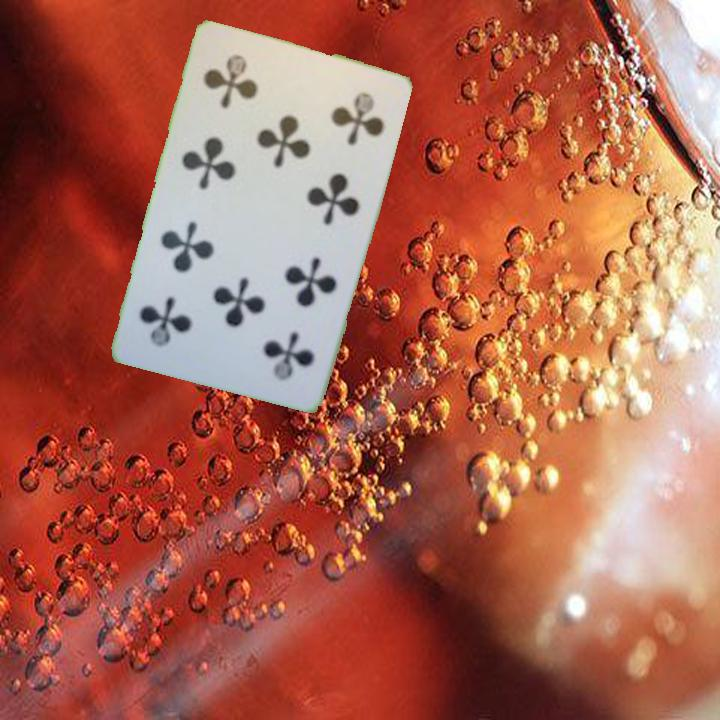c_10.png: (217, 289, 335, 397), (187, 37, 304, 144)
